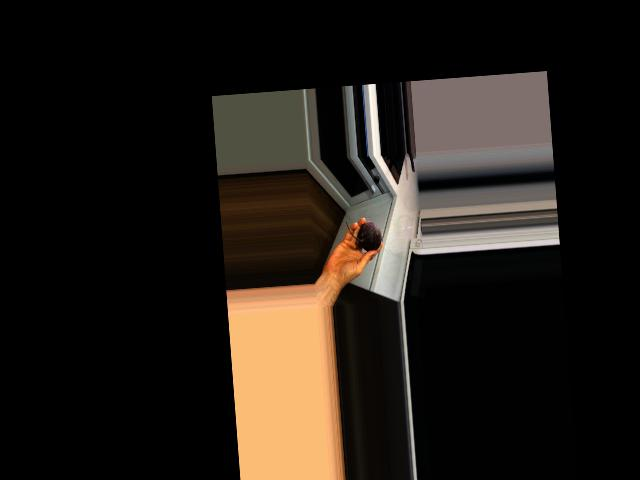beet: (345, 218, 382, 252)
